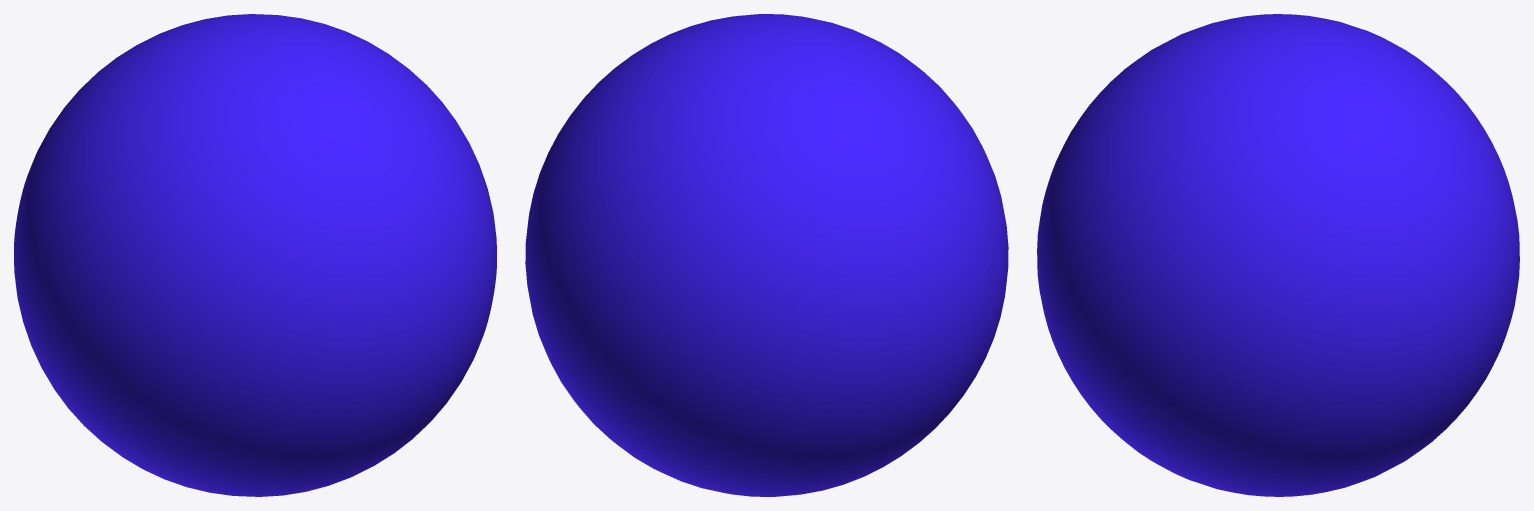
File: earth.obj
3 views of the same model, side by side, from view 1: azimuth 30°, elevation 25°; view 2: azimuth 150°, elevation 25°; view 3: azimuth 270°, elevation 25° (orthographic).
Visible parts, largest first — view 1: Sphere.002; view 2: Sphere.002; view 3: Sphere.002.
Part boxes in pixels (x1=…): Sphere.002: x1=14, y1=14, x2=496, y2=496; Sphere.002: x1=525, y1=14, x2=1008, y2=496; Sphere.002: x1=1037, y1=14, x2=1519, y2=496.
Size of the model in its own units: 2.03 by 2.03 by 2.03.
